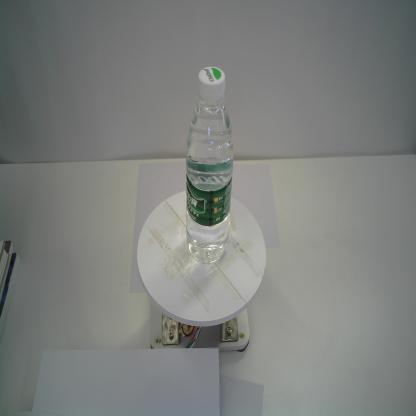Drink: (185, 63, 234, 264)
